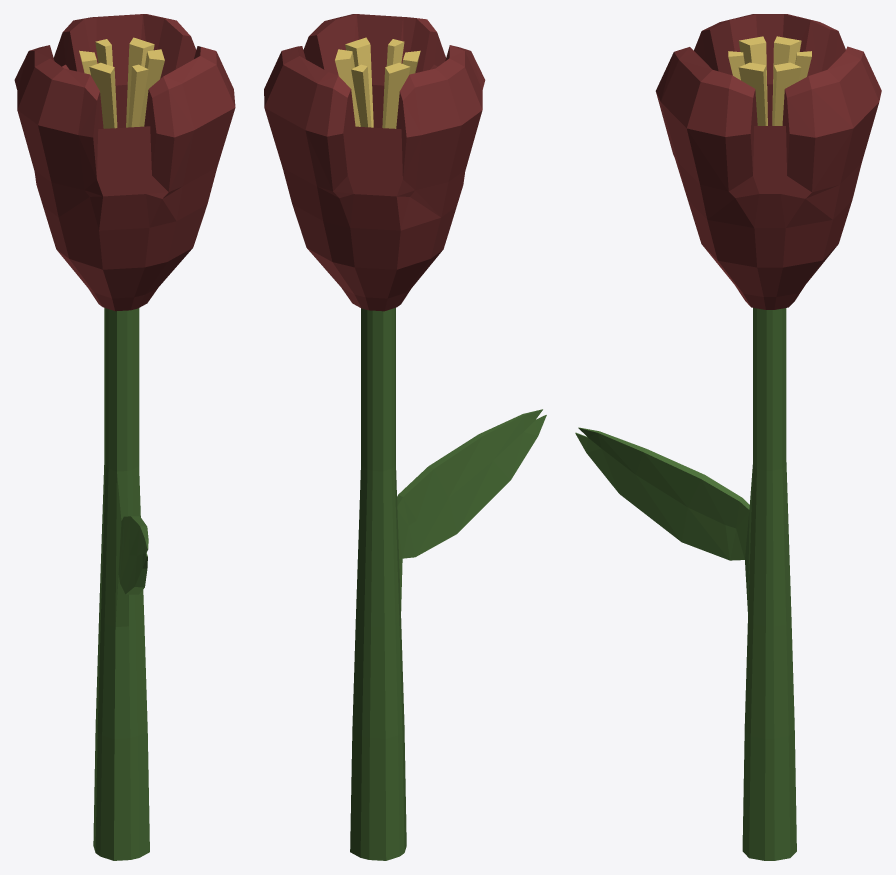
Rendered from Flower1.4.fbx.
3 renders of one model, left to right at view 1: azimuth 30°, elevation 25°; view 2: azimuth 150°, elevation 25°; view 3: azimuth 270°, elevation 25°, orthographic.
Visible parts, largest first — view 1: Flower1.4; view 2: Flower1.4; view 3: Flower1.4.
Part boxes in pixels (box(x1,y1,x2,y2)): Flower1.4: box(14, 14, 235, 860); Flower1.4: box(264, 14, 546, 860); Flower1.4: box(575, 14, 881, 860).
Size of the model in its own units: 37.51 by 155 by 53.54.
